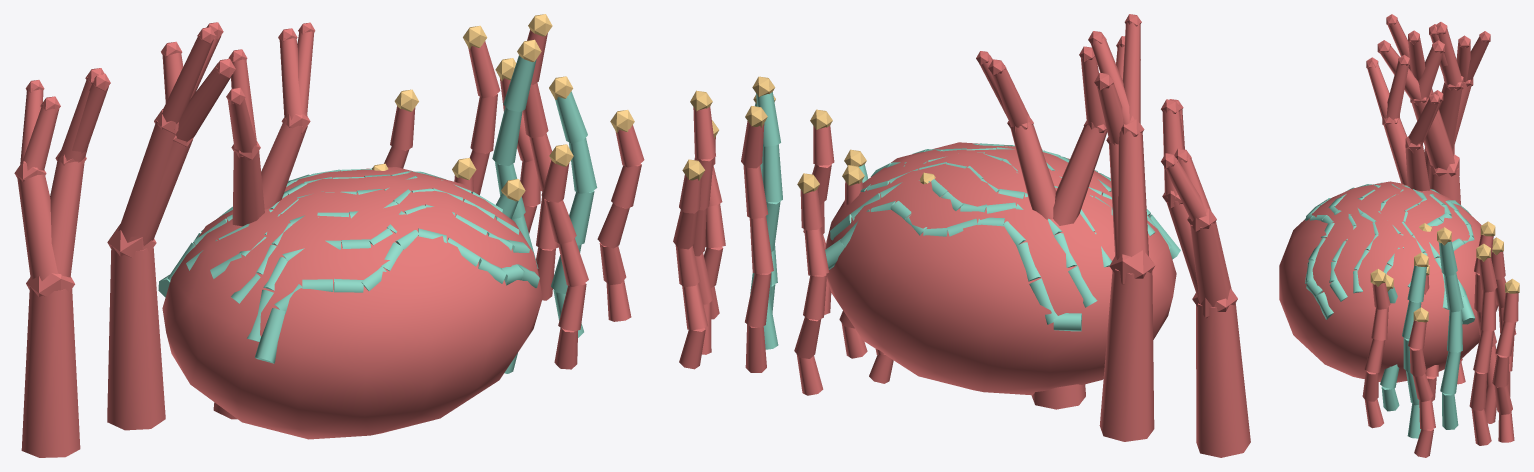
Rendered from 10-mixed-reef-cluster.glb.
The picture shows the model from 3 angles, left to right: view 1: azimuth 30°, elevation 25°; view 2: azimuth 150°, elevation 25°; view 3: azimuth 270°, elevation 25°; orthographic projection. The views are drawn at different scales.
Size of the model in its own units: 3.25 by 2.18 by 1.59.
